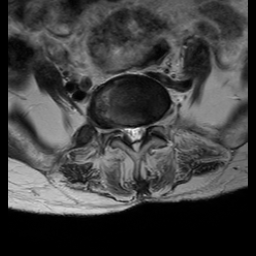CCS_normal: (131, 117, 139, 156)
LFS_severe_stenosis: (146, 114, 153, 138)
LLS_normal: (139, 116, 146, 144)
RFS_severe_stenosis: (114, 117, 122, 140)
RLS_normal: (122, 118, 131, 142)
